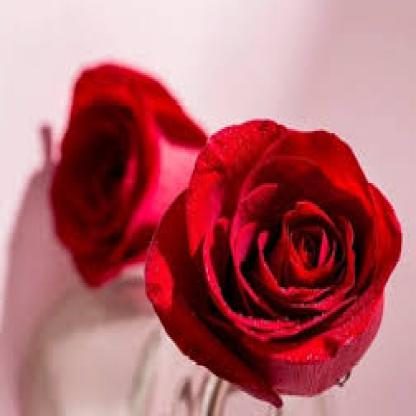Rose-Mawar: (34, 39, 407, 405)
